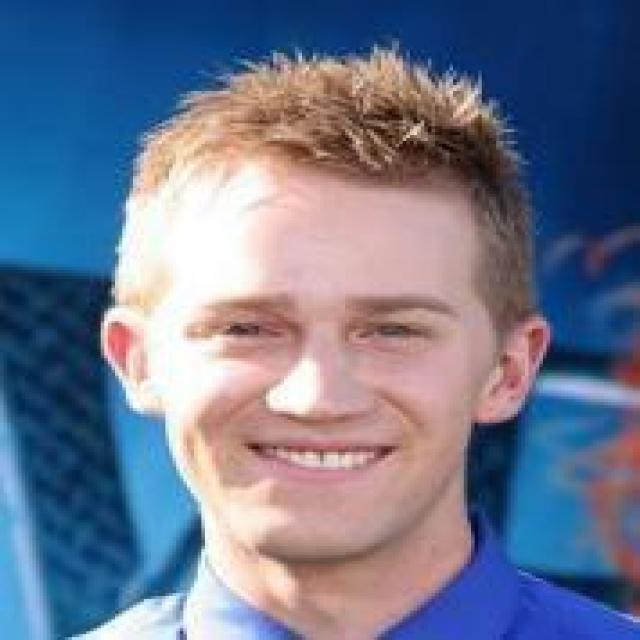nomask: (82, 59, 608, 590)
